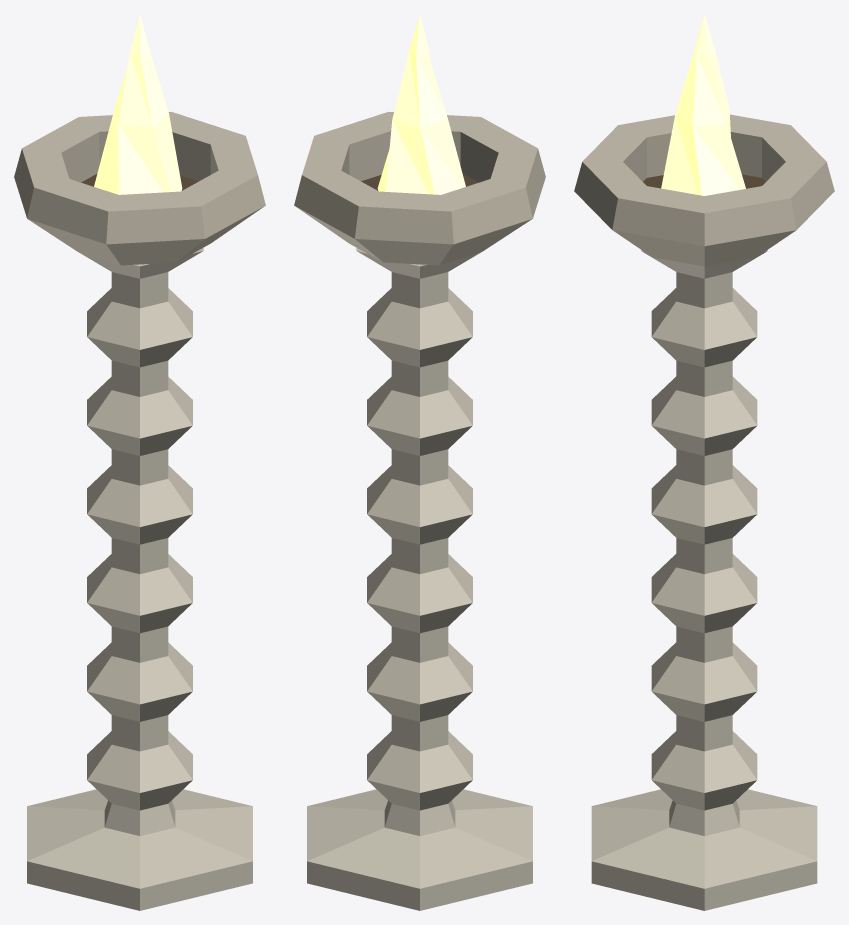
File: ossuary_lamp.glb
3 renders of one model, left to right at view 1: azimuth 30°, elevation 25°; view 2: azimuth 150°, elevation 25°; view 3: azimuth 270°, elevation 25°, orthographic.
Visible parts, largest first — view 1: Ossuary_lamp; view 2: Ossuary_lamp; view 3: Ossuary_lamp.
Boxes of the visible parts, <box> form: Ossuary_lamp: <box>14,15,265,910</box>; Ossuary_lamp: <box>294,15,545,910</box>; Ossuary_lamp: <box>574,14,834,910</box>.
Bounding box in the file's own units: 0.32 × 1.14 × 0.32.
